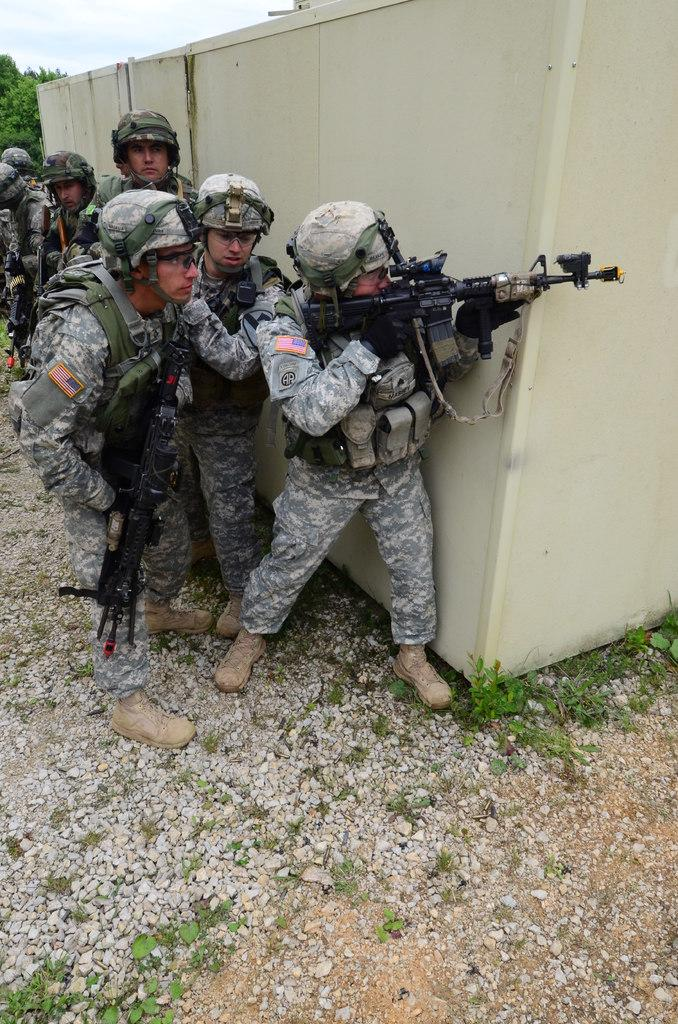Rifle: (304, 250, 626, 423), (82, 335, 178, 657), (3, 246, 24, 369)
